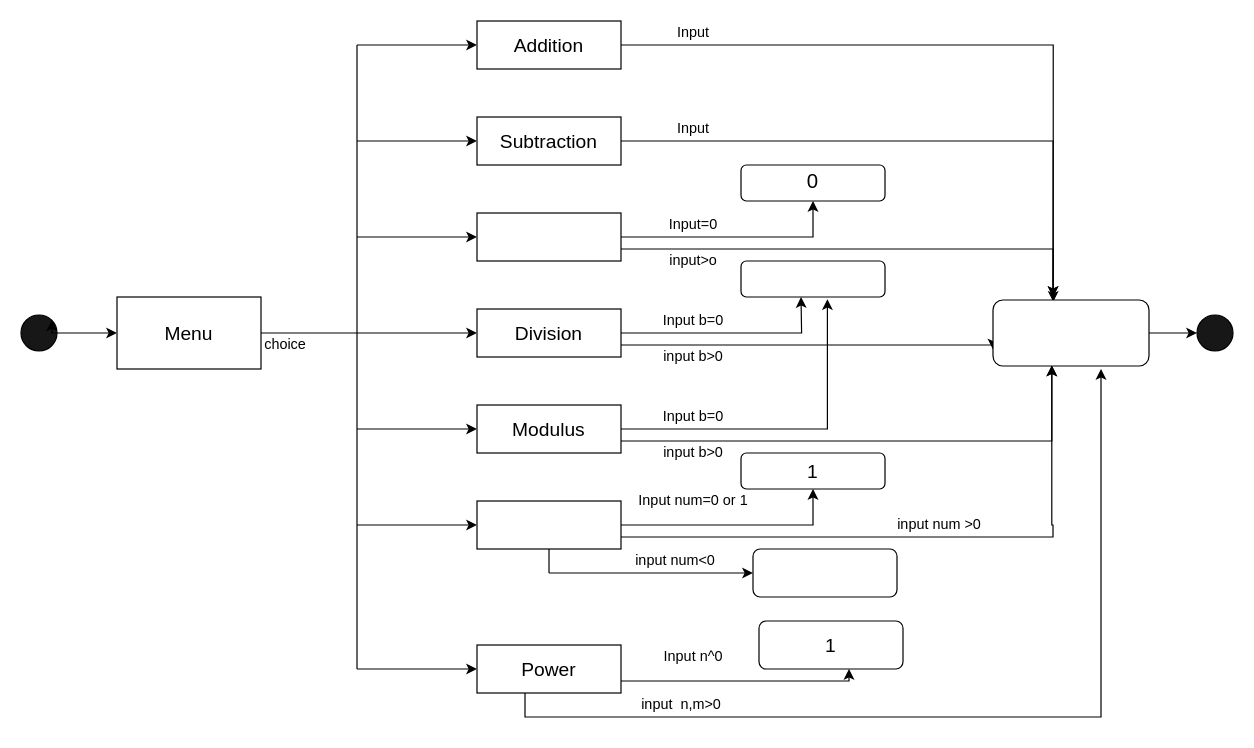
Some shapes in this 1254 by 748 pixel diagram are drawn without their labels. Here are the shapes that lost their labels. From the top down, the centre of each, then its label:
At [548,236]: "Multiplication".
At [812,278]: "Error div by 0".
At [1070,332]: "Output".
At [548,524]: "Factorial".
At [824,572]: "no factorial for -ve values".
